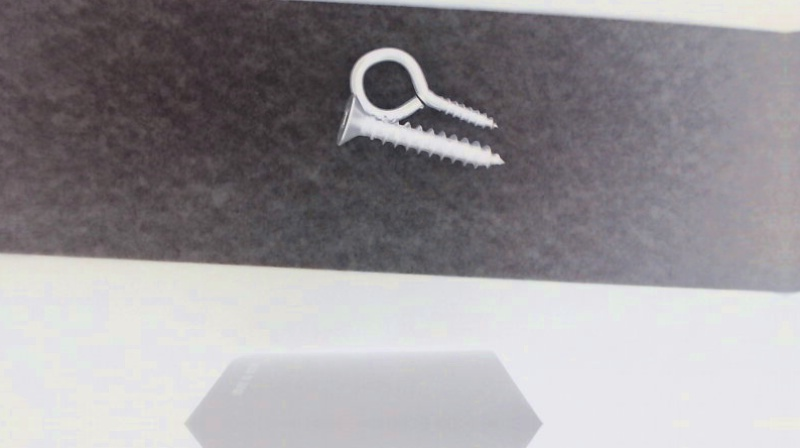O001: (342, 45, 498, 131)
S001: (338, 94, 506, 166)
